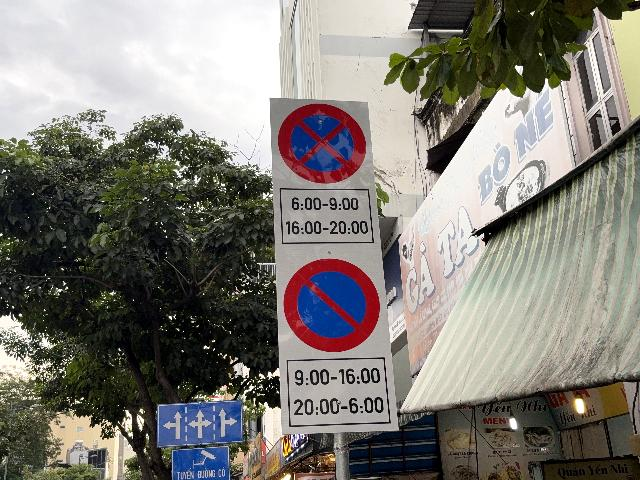cam-do-xe: (283, 258, 379, 352)
cam-dung-va-do-xe: (277, 103, 366, 183)
